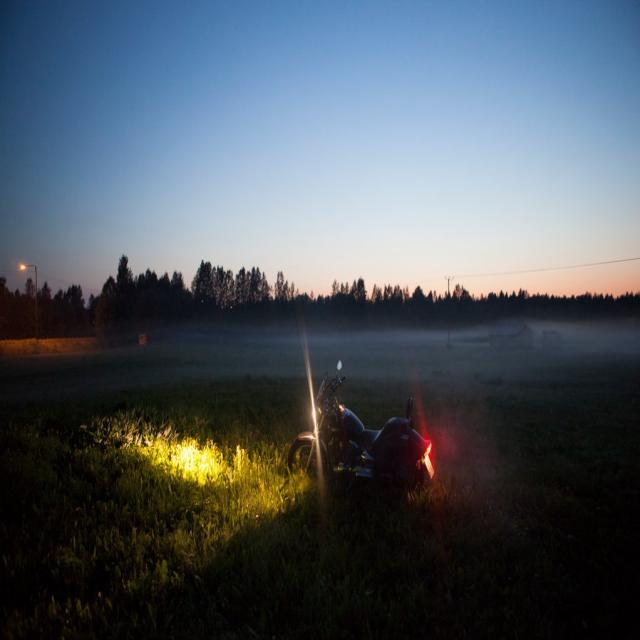Motorbike: (286, 361, 456, 537)
